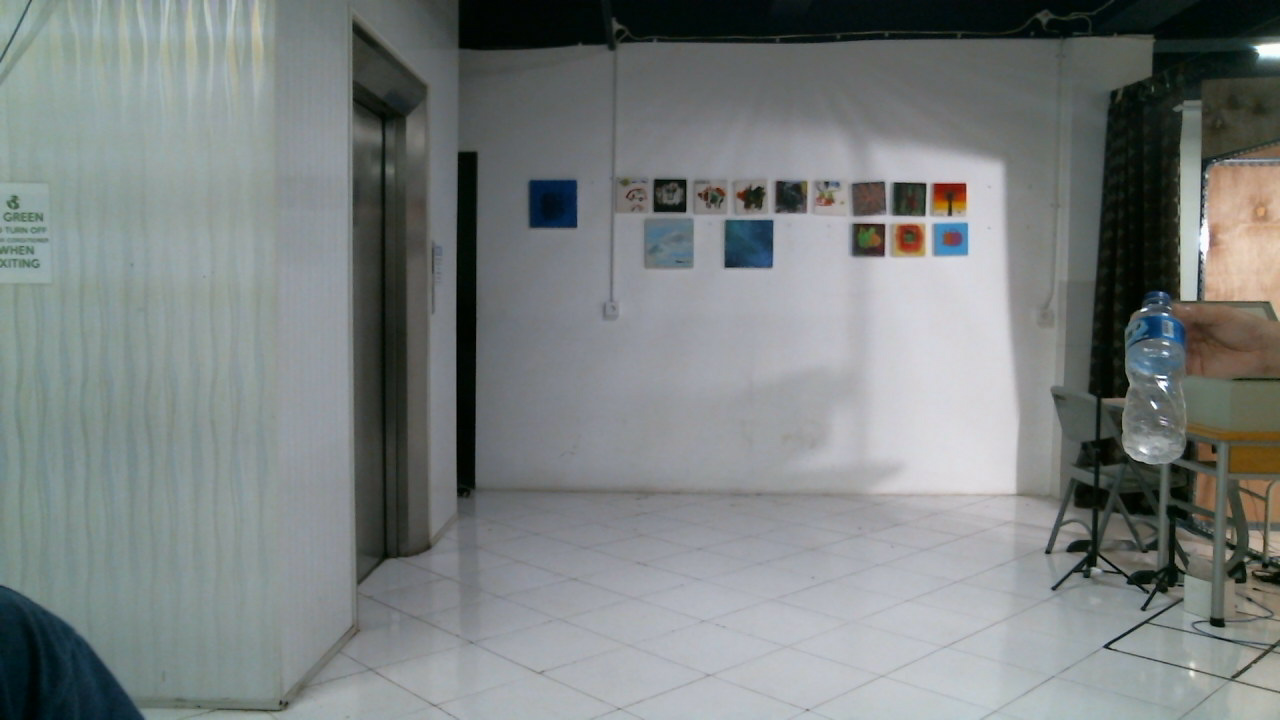Bottle: (1118, 292, 1187, 460)
